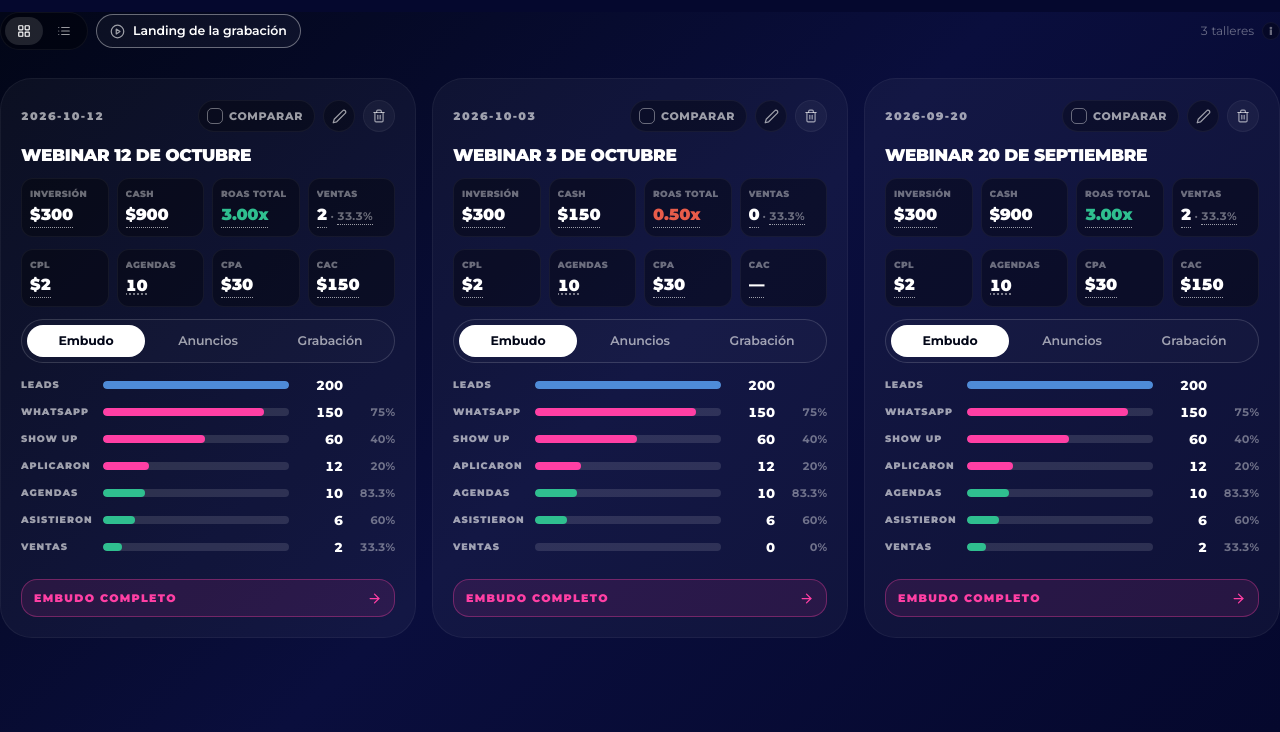
Workshop › Talleres › arranca en tarjetas y cada tarjeta cambia entre su embudo y sus anuncios
The image size is (1280, 732).
Expected: the list named "Embudo del taller" is shown, [21, 375, 395, 557]
What coordinates should you click on to do the following:
click the tab "Anuncios" below "WEBINAR 12 DE OCTUBRE"
I would click on:
 (208, 341)
Its box is [149, 325, 267, 357].
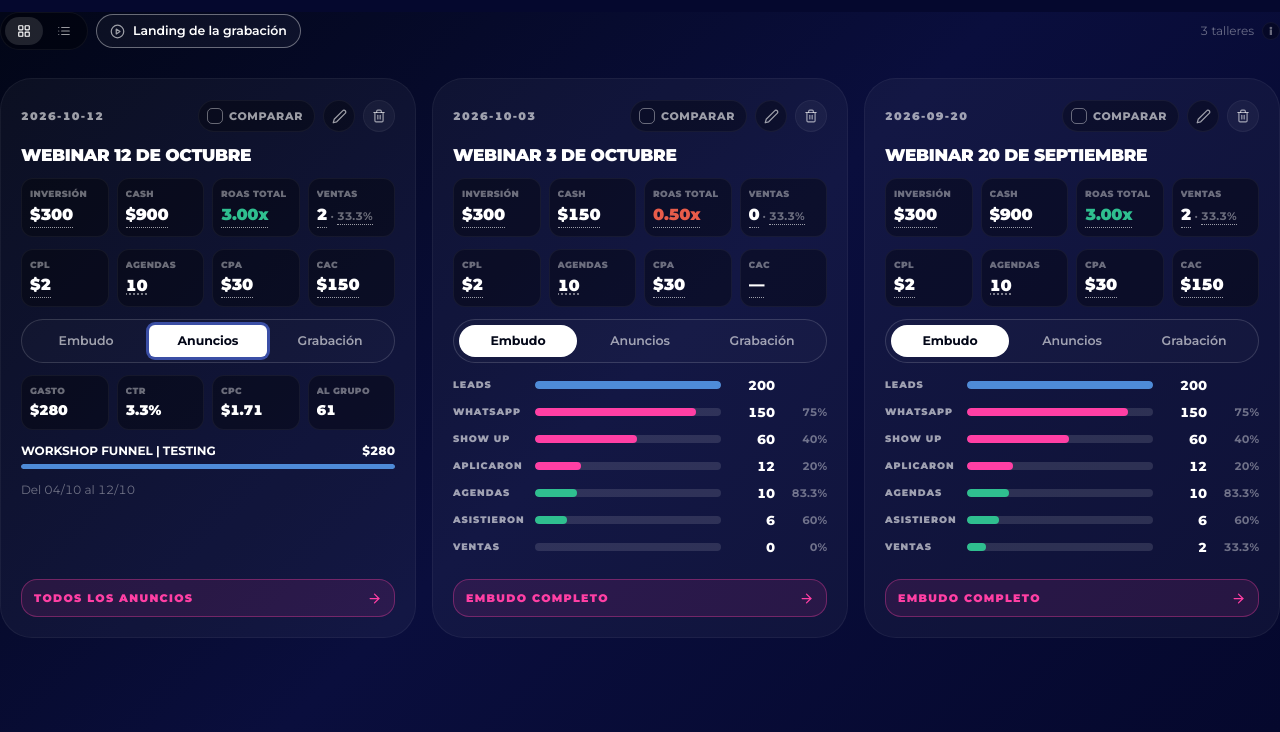
Expected: the text "WORKSHOP FUNNEL | TESTING" is shown, [21, 443, 216, 458]
